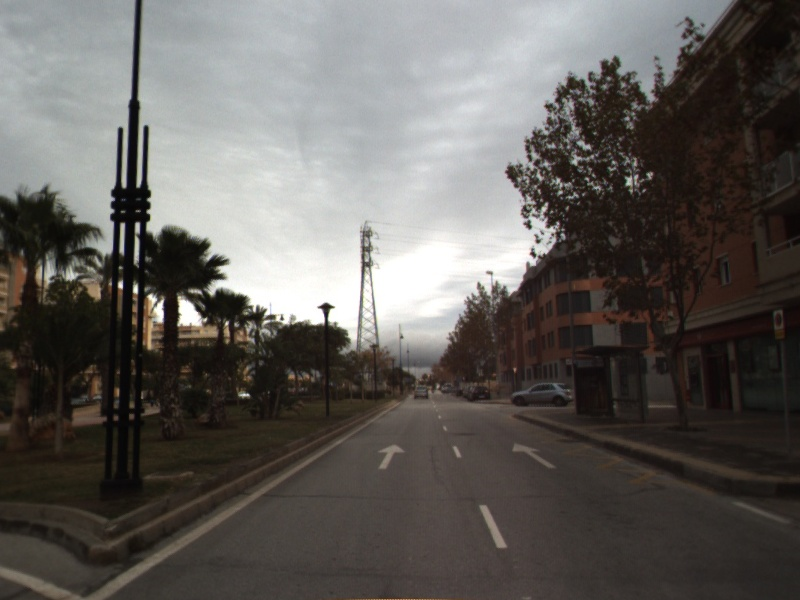STRAIGHT: (510, 440, 559, 470), (376, 442, 408, 471)
